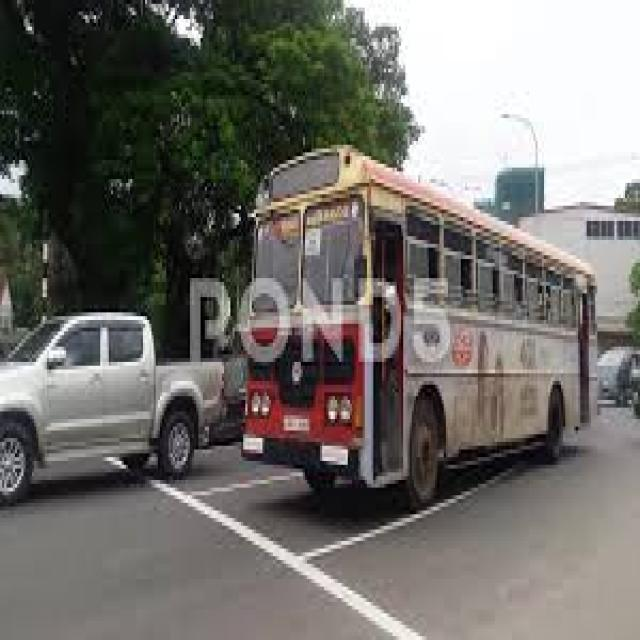bus: (239, 145, 593, 507)
van: (0, 316, 222, 503)
